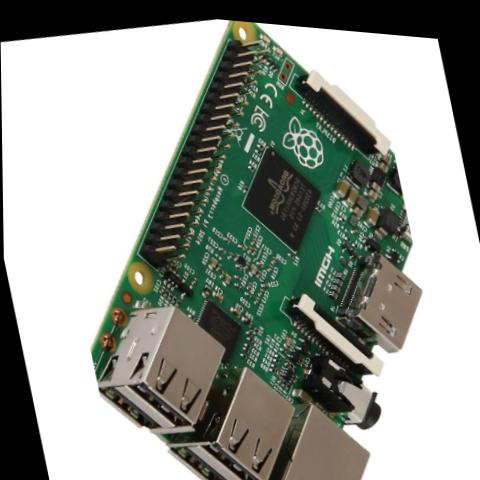Raspberry-Pi-2-Model-B: (25, 2, 460, 480)
